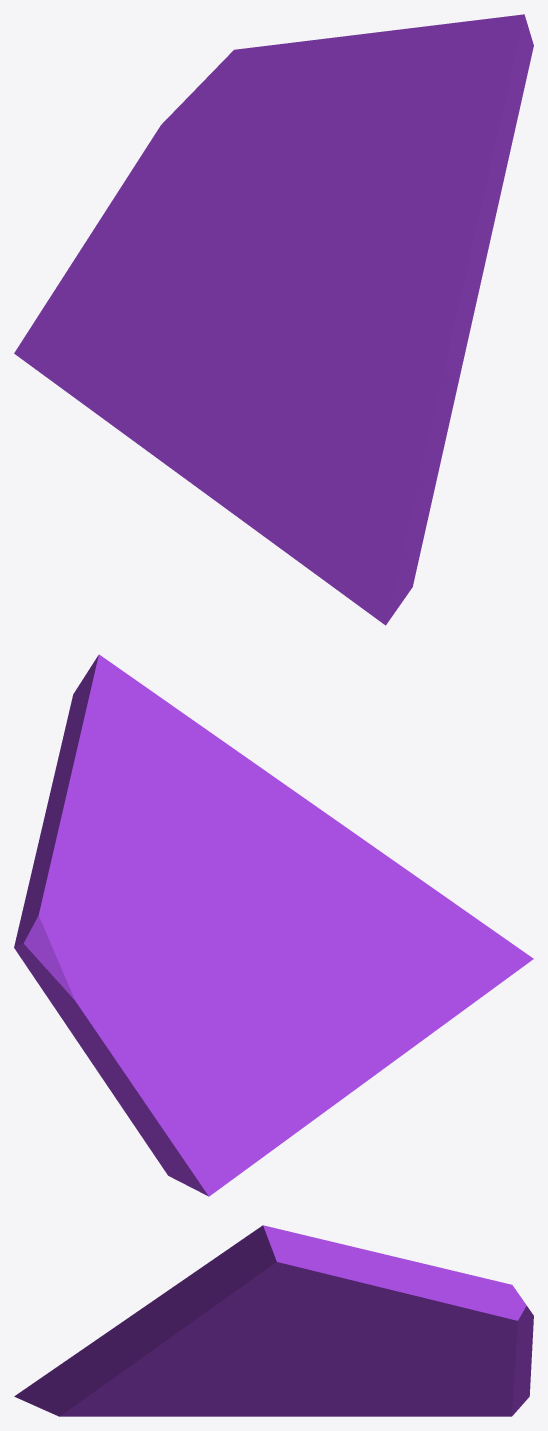
The model's file is Window_113_0_chunks.fbx.
3 renders of one model, top to bottom at view 1: azimuth 30°, elevation 25°; view 2: azimuth 150°, elevation 25°; view 3: azimuth 270°, elevation 25°, orthographic. The views are drawn at different scales.
Visible parts, largest first — view 1: Window_113_0_0, Window_113_0_7, Window_113_0_13, Window_113_0_2, Window_113_0_5, Window_113_0_10, Window_113_0_14, Window_113_0_6, Window_113_0_4, Window_113_0_11, Window_113_0_8, Window_113_0_3 (+4 smaller); view 2: Window_113_0_0, Window_113_0_2, Window_113_0_13, Window_113_0_7, Window_113_0_5, Window_113_0_10, Window_113_0_1, Window_113_0_14, Window_113_0_6, Window_113_0_4, Window_113_0_11, Window_113_0_8 (+4 smaller); view 3: Window_113_0_7, Window_113_0_0, Window_113_0_1, Window_113_0_13, Window_113_0_6, Window_113_0_12, Window_113_0_11, Window_113_0_2, Window_113_0_9, Window_113_0_4, Window_113_0_8, Window_113_0_10 (+1 smaller).
Boxes of the visible parts, x1,y1,x2,y2 form: Window_113_0_0: (144, 21, 466, 222); Window_113_0_7: (389, 14, 533, 383); Window_113_0_13: (300, 401, 452, 625); Window_113_0_2: (14, 217, 188, 411); Window_113_0_5: (326, 19, 487, 289); Window_113_0_10: (207, 331, 308, 568); Window_113_0_14: (342, 289, 454, 416); Window_113_0_6: (277, 84, 407, 306); Window_113_0_4: (192, 212, 288, 343); Window_113_0_11: (285, 284, 350, 469); Window_113_0_8: (94, 329, 236, 423); Window_113_0_3: (153, 215, 227, 349); Window_113_0_0: (14, 706, 186, 1023); Window_113_0_2: (147, 1005, 278, 1196); Window_113_0_13: (355, 855, 533, 1007); Window_113_0_7: (64, 654, 349, 854); Window_113_0_5: (75, 687, 272, 906); Window_113_0_10: (259, 957, 466, 1041); Window_113_0_1: (30, 971, 163, 1168); Window_113_0_14: (269, 830, 384, 931); Window_113_0_6: (58, 723, 254, 948); Window_113_0_4: (155, 930, 284, 1004); Window_113_0_11: (249, 890, 386, 985); Window_113_0_8: (248, 998, 295, 1145); Window_113_0_7: (119, 1225, 316, 1358); Window_113_0_0: (312, 1237, 533, 1336); Window_113_0_1: (359, 1325, 533, 1413); Window_113_0_13: (14, 1338, 200, 1416); Window_113_0_6: (252, 1252, 376, 1378); Window_113_0_12: (128, 1348, 276, 1384); Window_113_0_11: (195, 1362, 307, 1413); Window_113_0_2: (393, 1360, 531, 1416); Window_113_0_9: (241, 1384, 349, 1413); Window_113_0_4: (294, 1362, 418, 1394); Window_113_0_8: (342, 1388, 406, 1416); Window_113_0_10: (193, 1383, 300, 1416).
Bounding box in the file's own units: 572 × 651 × 1100.
